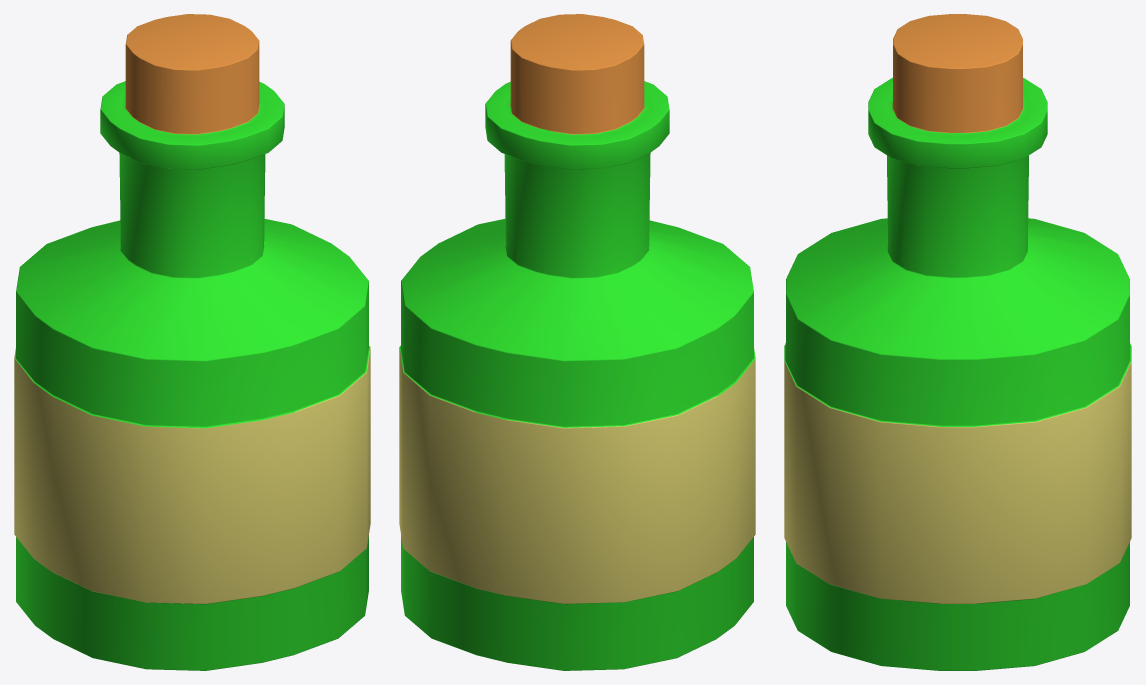
The model's file is PoisonArtifact.fbx.
The picture shows the model from 3 angles, left to right: view 1: azimuth 30°, elevation 25°; view 2: azimuth 150°, elevation 25°; view 3: azimuth 270°, elevation 25°; orthographic projection.
Parts seen in each view (by area): view 1: Cube.338; view 2: Cube.338; view 3: Cube.338.
Boxes of the visible parts, left/top/right/bottom form: Cube.338: left=14, top=14, right=370, bottom=670; Cube.338: left=399, top=14, right=755, bottom=670; Cube.338: left=784, top=14, right=1131, bottom=670.
Bounding box in the file's own units: 128 × 226 × 128.
